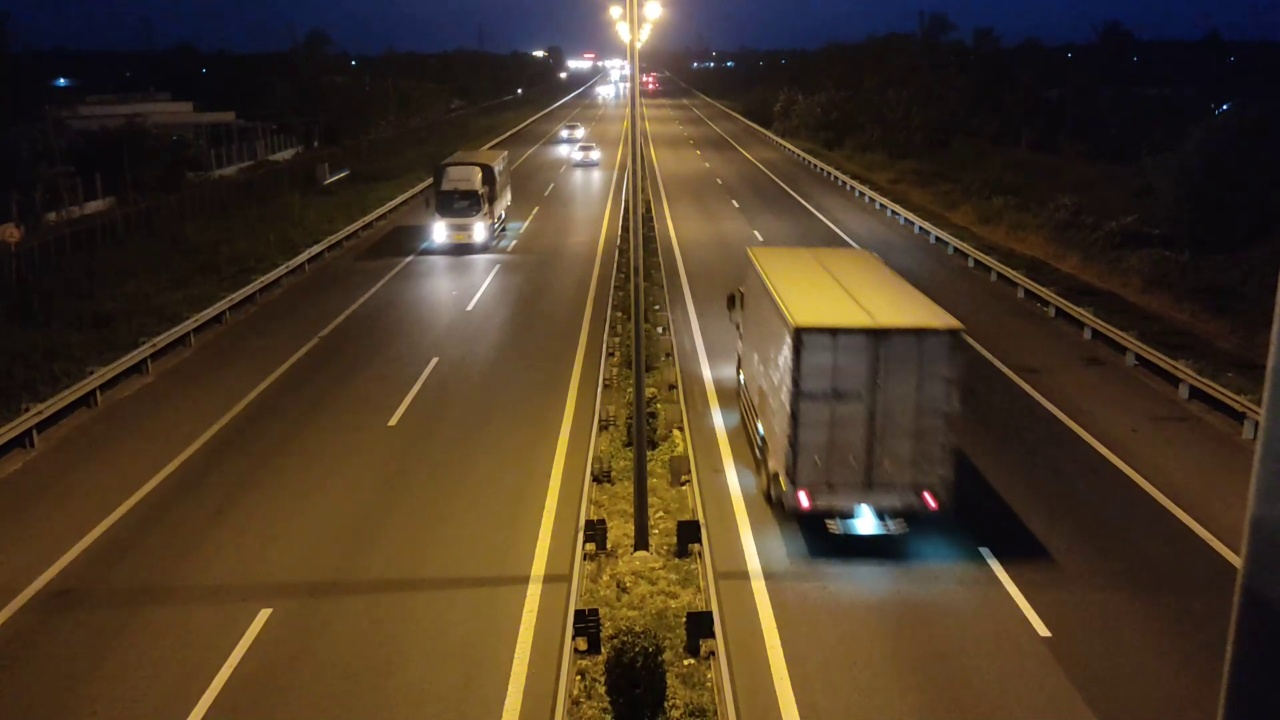car: (569, 143, 601, 167)
truck: (725, 243, 967, 555), (427, 147, 513, 253)
